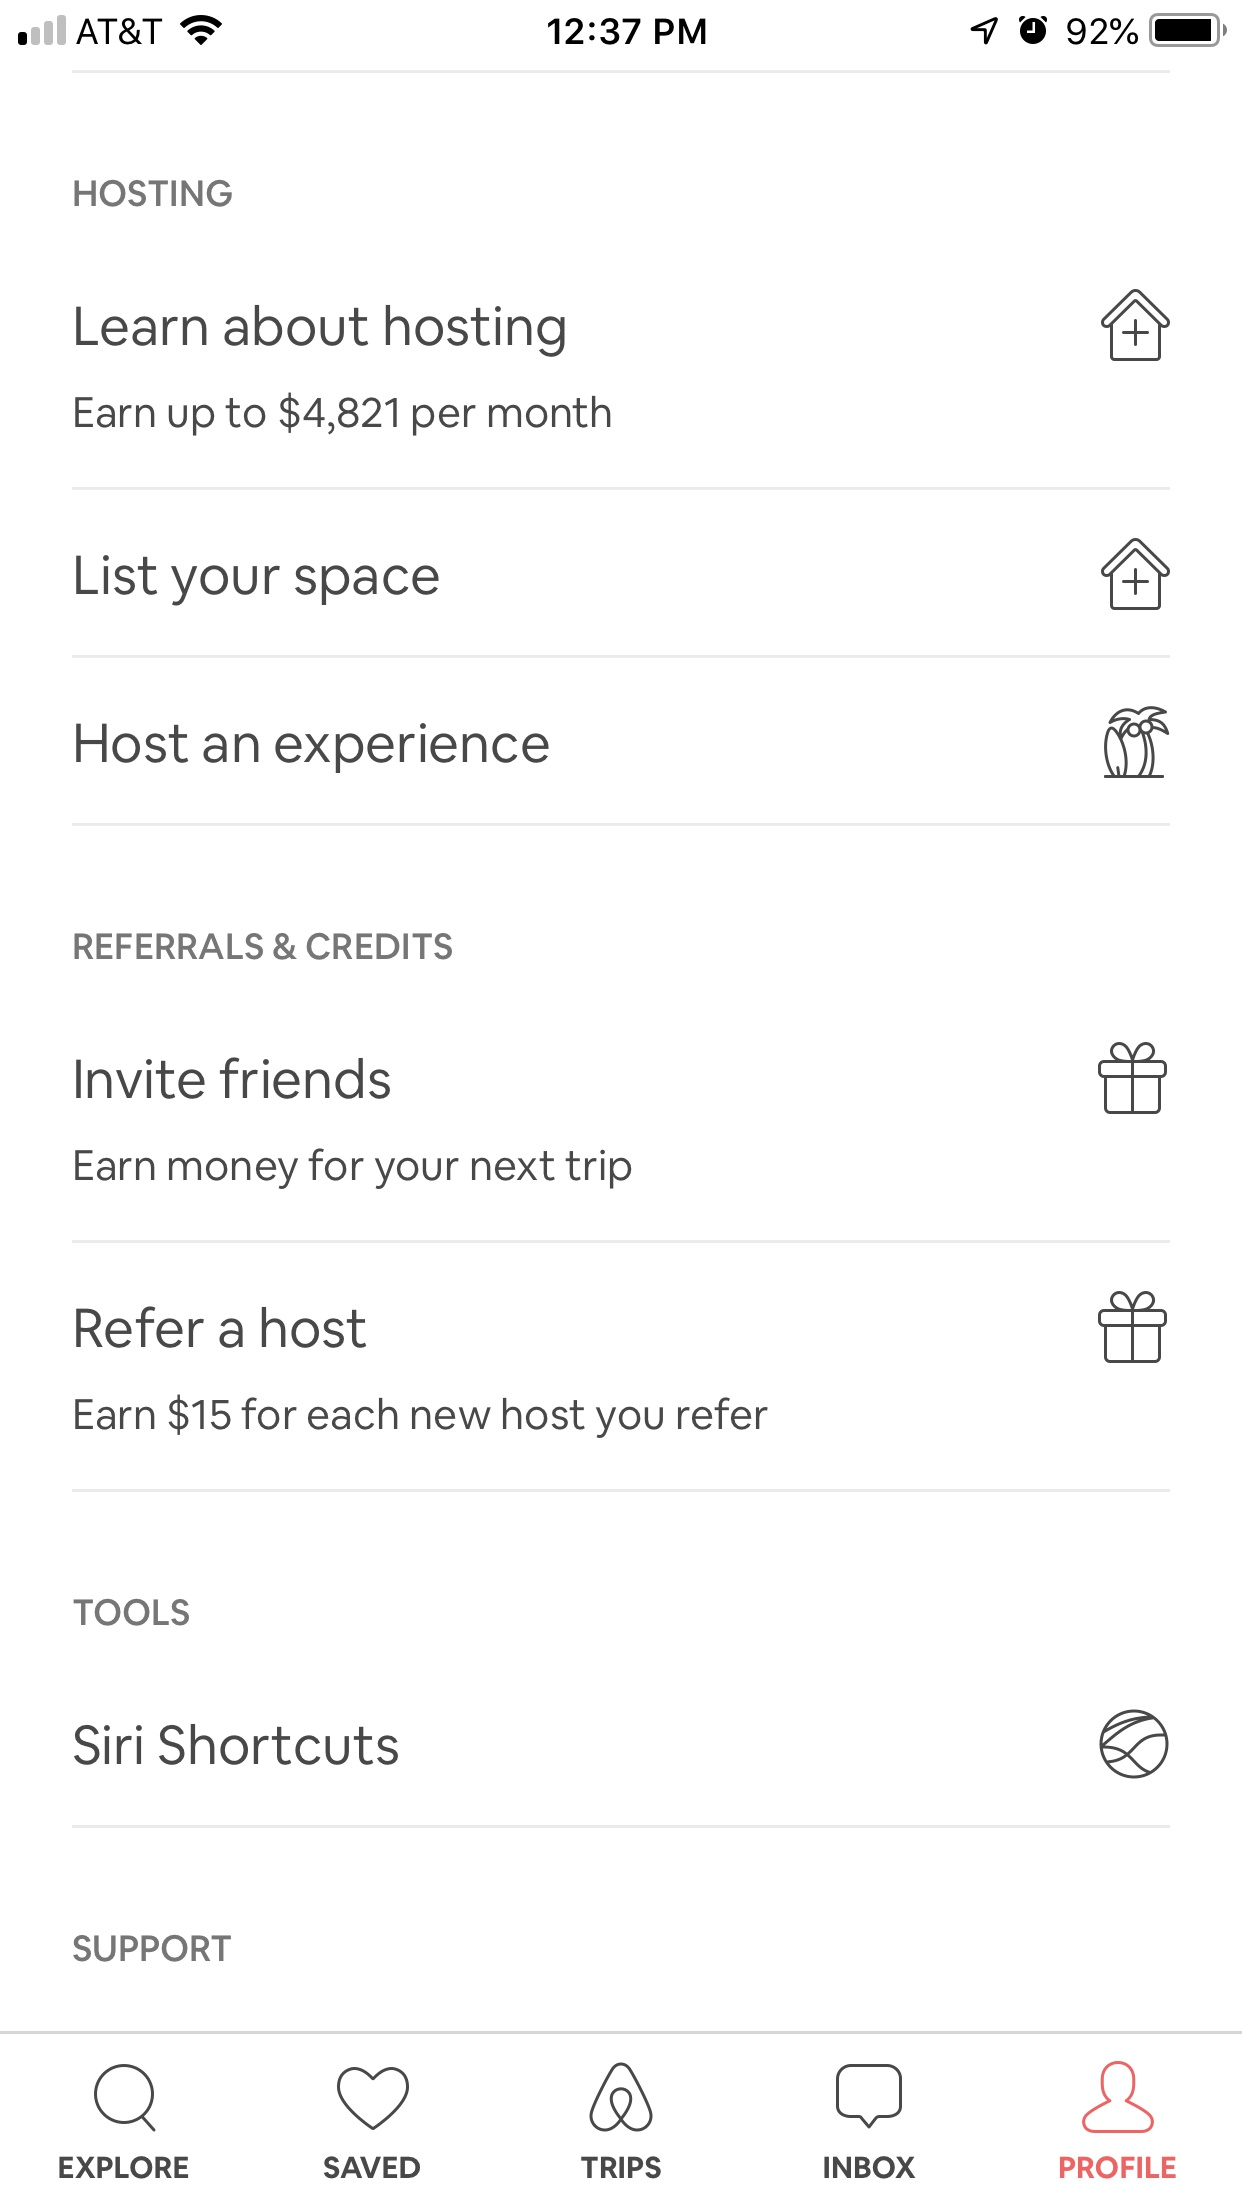Icon: (1081, 2059, 1156, 2134), (1096, 1291, 1168, 1363), (1099, 538, 1171, 611), (1098, 1042, 1168, 1116), (1101, 290, 1171, 362), (337, 2065, 409, 2131), (836, 2062, 902, 2131), (94, 2062, 158, 2134)
Image: (1098, 1708, 1169, 1780), (1102, 707, 1171, 779), (588, 2061, 654, 2132)
Text: (74, 1394, 769, 1439), (76, 303, 566, 358), (74, 391, 613, 438), (76, 723, 550, 775), (74, 1148, 632, 1190), (76, 554, 441, 607), (74, 1723, 400, 1767), (76, 1055, 391, 1099), (76, 1306, 369, 1350), (74, 933, 453, 961), (74, 179, 234, 208), (74, 1934, 234, 1962), (73, 1598, 191, 1627), (61, 2155, 190, 2179), (1059, 2155, 1177, 2179), (325, 2155, 422, 2179), (823, 2156, 916, 2181), (581, 2155, 663, 2179)
UpperTaskBar: (2, 2, 1242, 49)
